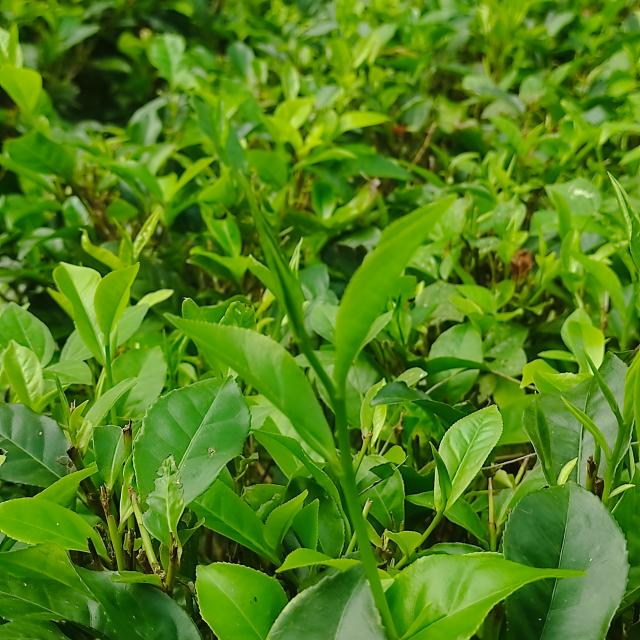unopened_leaf: (228, 157, 321, 354), (579, 343, 630, 433), (552, 390, 616, 461), (54, 374, 80, 428)
